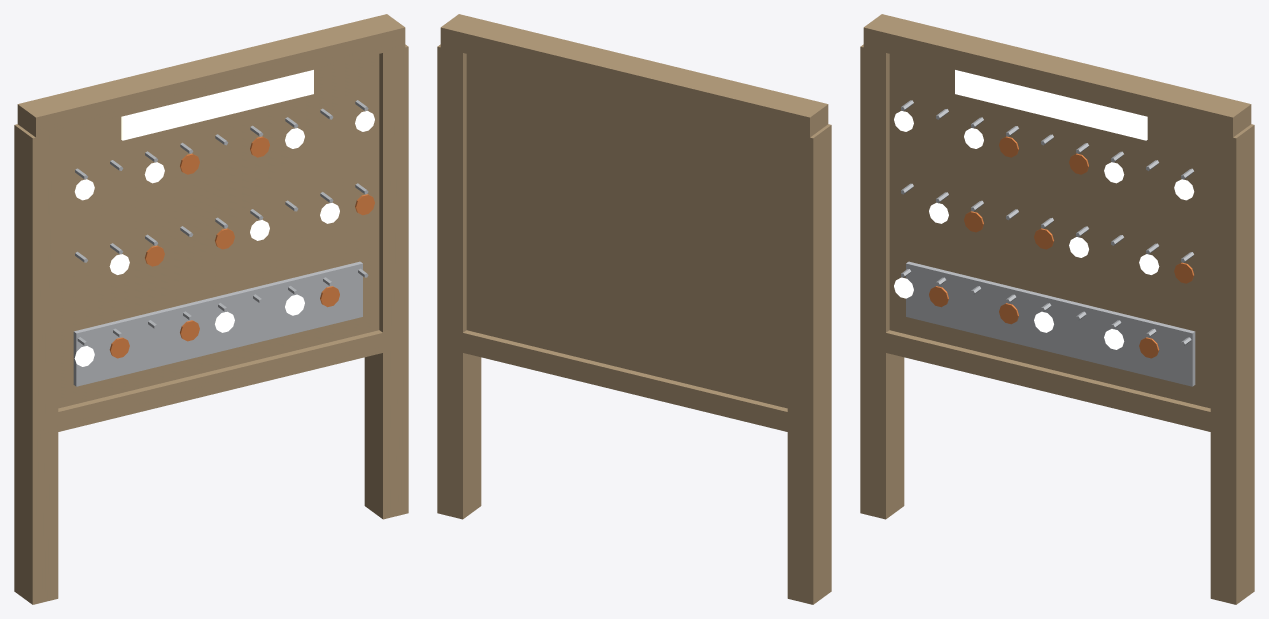
Rendered from underground-mine-and-shaft-works-tally-board-4bcc67ef.glb.
The picture shows the model from 3 angles, left to right: view 1: azimuth 30°, elevation 25°; view 2: azimuth 150°, elevation 25°; view 3: azimuth 330°, elevation 25°; orthographic projection.
Parts seen in each view (by area): view 1: tally-board; view 2: tally-board; view 3: tally-board.
Boxes of the visible parts, box(x1,y1,x2,y2) form: tally-board: box(14, 14, 408, 604); tally-board: box(437, 14, 831, 604); tally-board: box(860, 14, 1254, 604).
Bounding box in the file's own units: 1.18 × 1.46 × 0.13.
